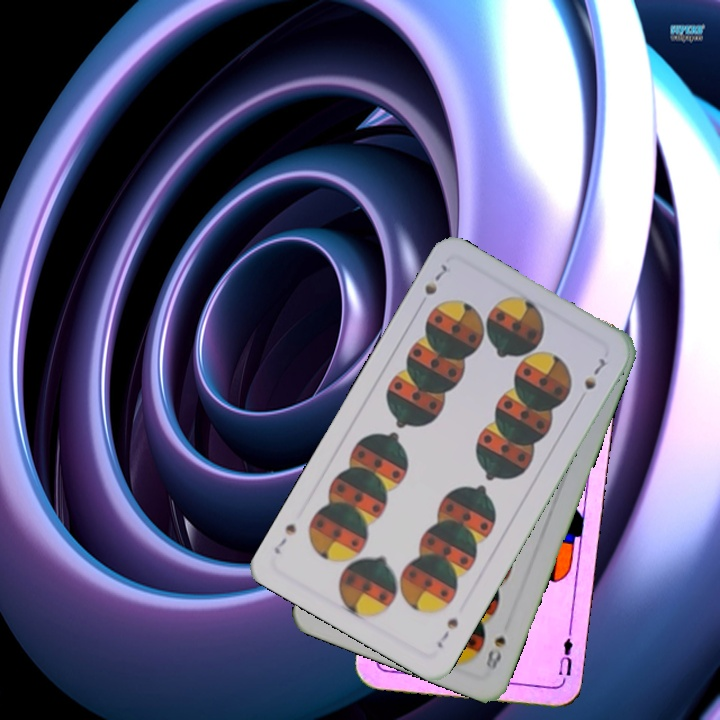EU: (554, 627, 575, 686)
S7: (420, 260, 450, 298), (433, 613, 461, 651)
S8: (481, 632, 509, 674)
